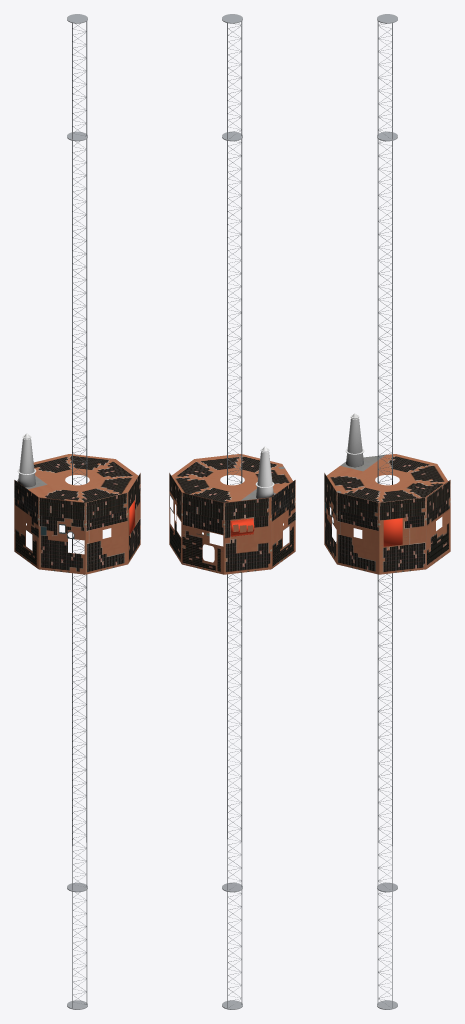
File: image.glb
3 renders of one model, left to right at view 1: azimuth 30°, elevation 25°; view 2: azimuth 150°, elevation 25°; view 3: azimuth 330°, elevation 25°, orthographic.
Visible parts, largest first — view 1: BUS_shiny_panel2, AO_axial_ant, shiny_panel3, AO_helix_ant; view 2: BUS_shiny_panel2, AO_axial_ant, shiny_panel3, AO_helix_ant; view 3: shiny_panel3, AO_axial_ant, BUS_shiny_panel2, AO_helix_ant, foil_red.
Part boxes in pixels (x1,y1,x2,y2): BUS_shiny_panel2: (14, 480, 127, 574); AO_axial_ant: (67, 14, 87, 1009); shiny_panel3: (17, 454, 140, 563); AO_helix_ant: (17, 433, 36, 487); BUS_shiny_panel2: (169, 473, 295, 574); AO_axial_ant: (222, 14, 242, 1009); shiny_panel3: (171, 454, 292, 502); AO_helix_ant: (255, 446, 274, 498); shiny_panel3: (326, 454, 450, 574); AO_axial_ant: (377, 14, 397, 1009); BUS_shiny_panel2: (324, 473, 379, 574); AO_helix_ant: (335, 413, 364, 542); foil_red: (383, 518, 402, 546).
Size of what is drawn, in the model's own units: 2.25 by 20.79 by 2.25.
Materials: 5 (4 with a texture image).
